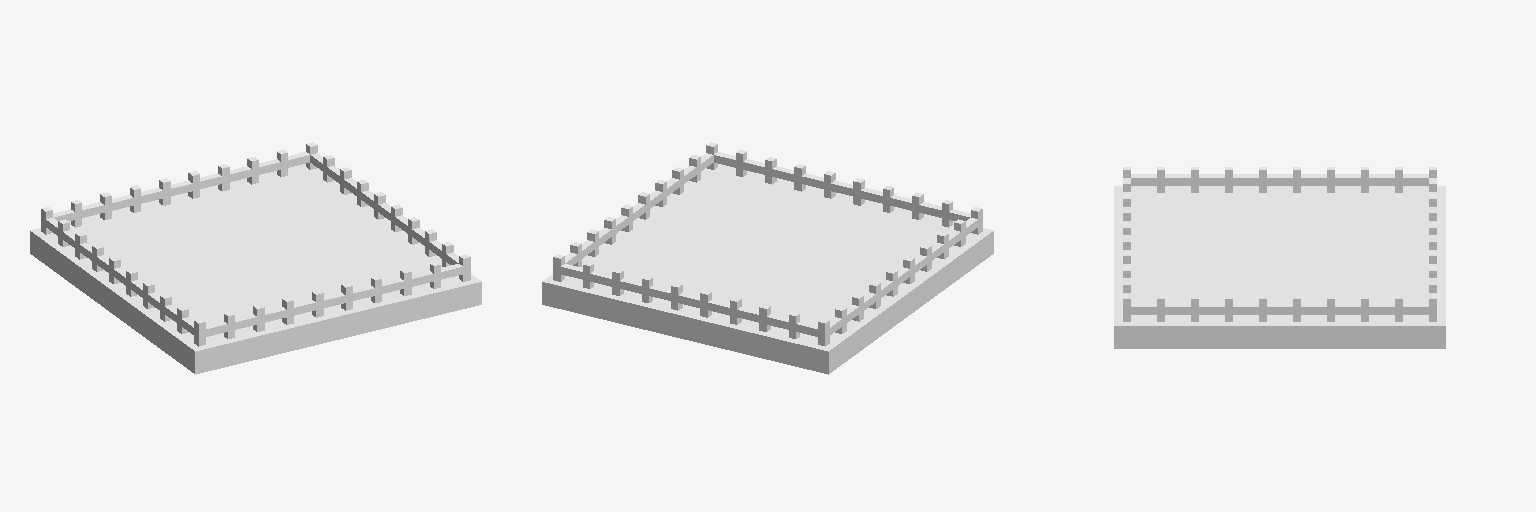
Rendered from farm1.obj.
3 renders of one model, left to right at view 1: azimuth 30°, elevation 25°; view 2: azimuth 150°, elevation 25°; view 3: azimuth 270°, elevation 25°, orthographic.
Visible parts, largest first — view 1: object 1; view 2: object 1; view 3: object 1.
Boxes of the visible parts, x1,y1,x2,y2 form: object 1: [30, 142, 481, 374]; object 1: [542, 142, 993, 374]; object 1: [1114, 167, 1445, 348].
Size of the model in its own units: 3.9 by 0.6 by 3.9.